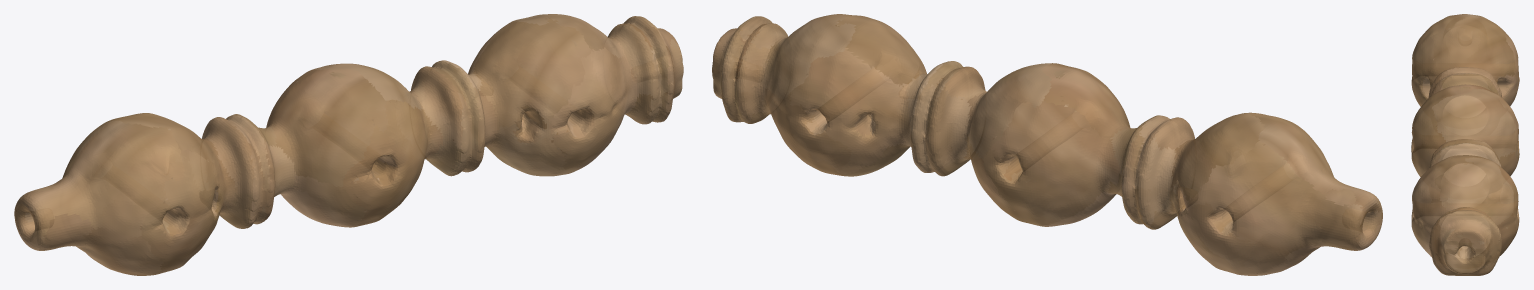
File: 2yes.glb
3 views of the same model, side by side, from view 1: azimuth 30°, elevation 25°; view 2: azimuth 150°, elevation 25°; view 3: azimuth 270°, elevation 25° (orthographic). The views are drawn at different scales.
Visible parts, largest first — view 1: tmpokpj_d30.ply; view 2: tmpokpj_d30.ply; view 3: tmpokpj_d30.ply.
Boxes of the visible parts, bbox=[...] form: tmpokpj_d30.ply: bbox=[14, 14, 683, 275]; tmpokpj_d30.ply: bbox=[712, 14, 1382, 275]; tmpokpj_d30.ply: bbox=[1411, 14, 1519, 275].
Size of the model in its own units: 1.96 by 0.423 by 0.4027.
Materials: 1 (1 with a texture image).
